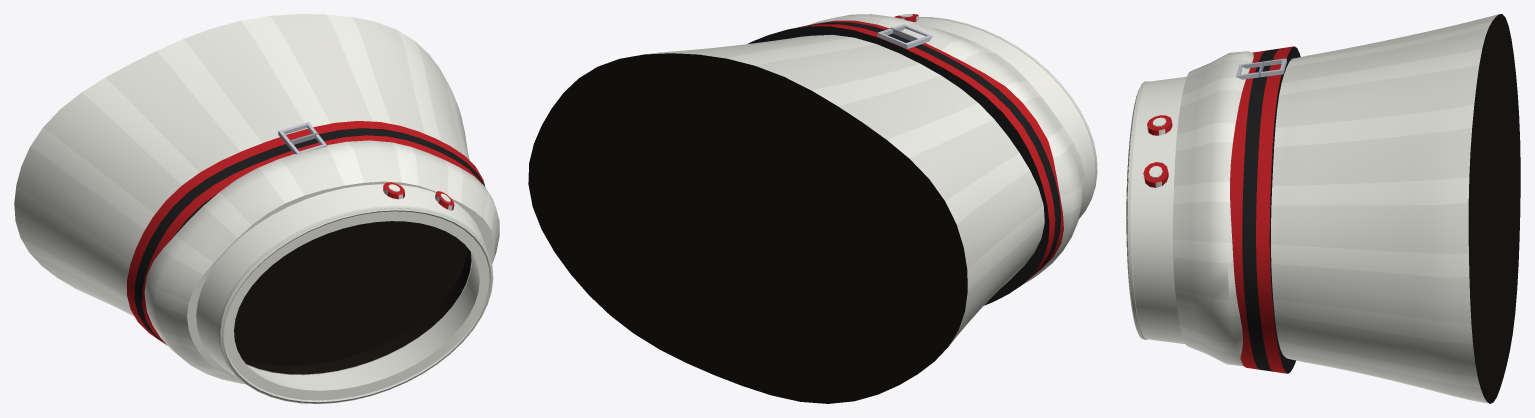
Rendered from Sleeve_Croupier.fbx.
The picture shows the model from 3 angles, left to right: view 1: azimuth 30°, elevation 25°; view 2: azimuth 150°, elevation 25°; view 3: azimuth 270°, elevation 25°; orthographic projection. The views are drawn at different scales.
Visible parts, largest first — view 1: Sleeve_Croupier; view 2: Sleeve_Croupier; view 3: Sleeve_Croupier.
Part boxes in pixels (<box>): Sleeve_Croupier: <box>14,14,499,403</box>; Sleeve_Croupier: <box>528,14,1097,403</box>; Sleeve_Croupier: <box>1126,14,1520,403</box>.
Bounding box in the file's own units: 1.01 × 0.6556 × 0.7395.
Materials: 1 (1 with a texture image).
